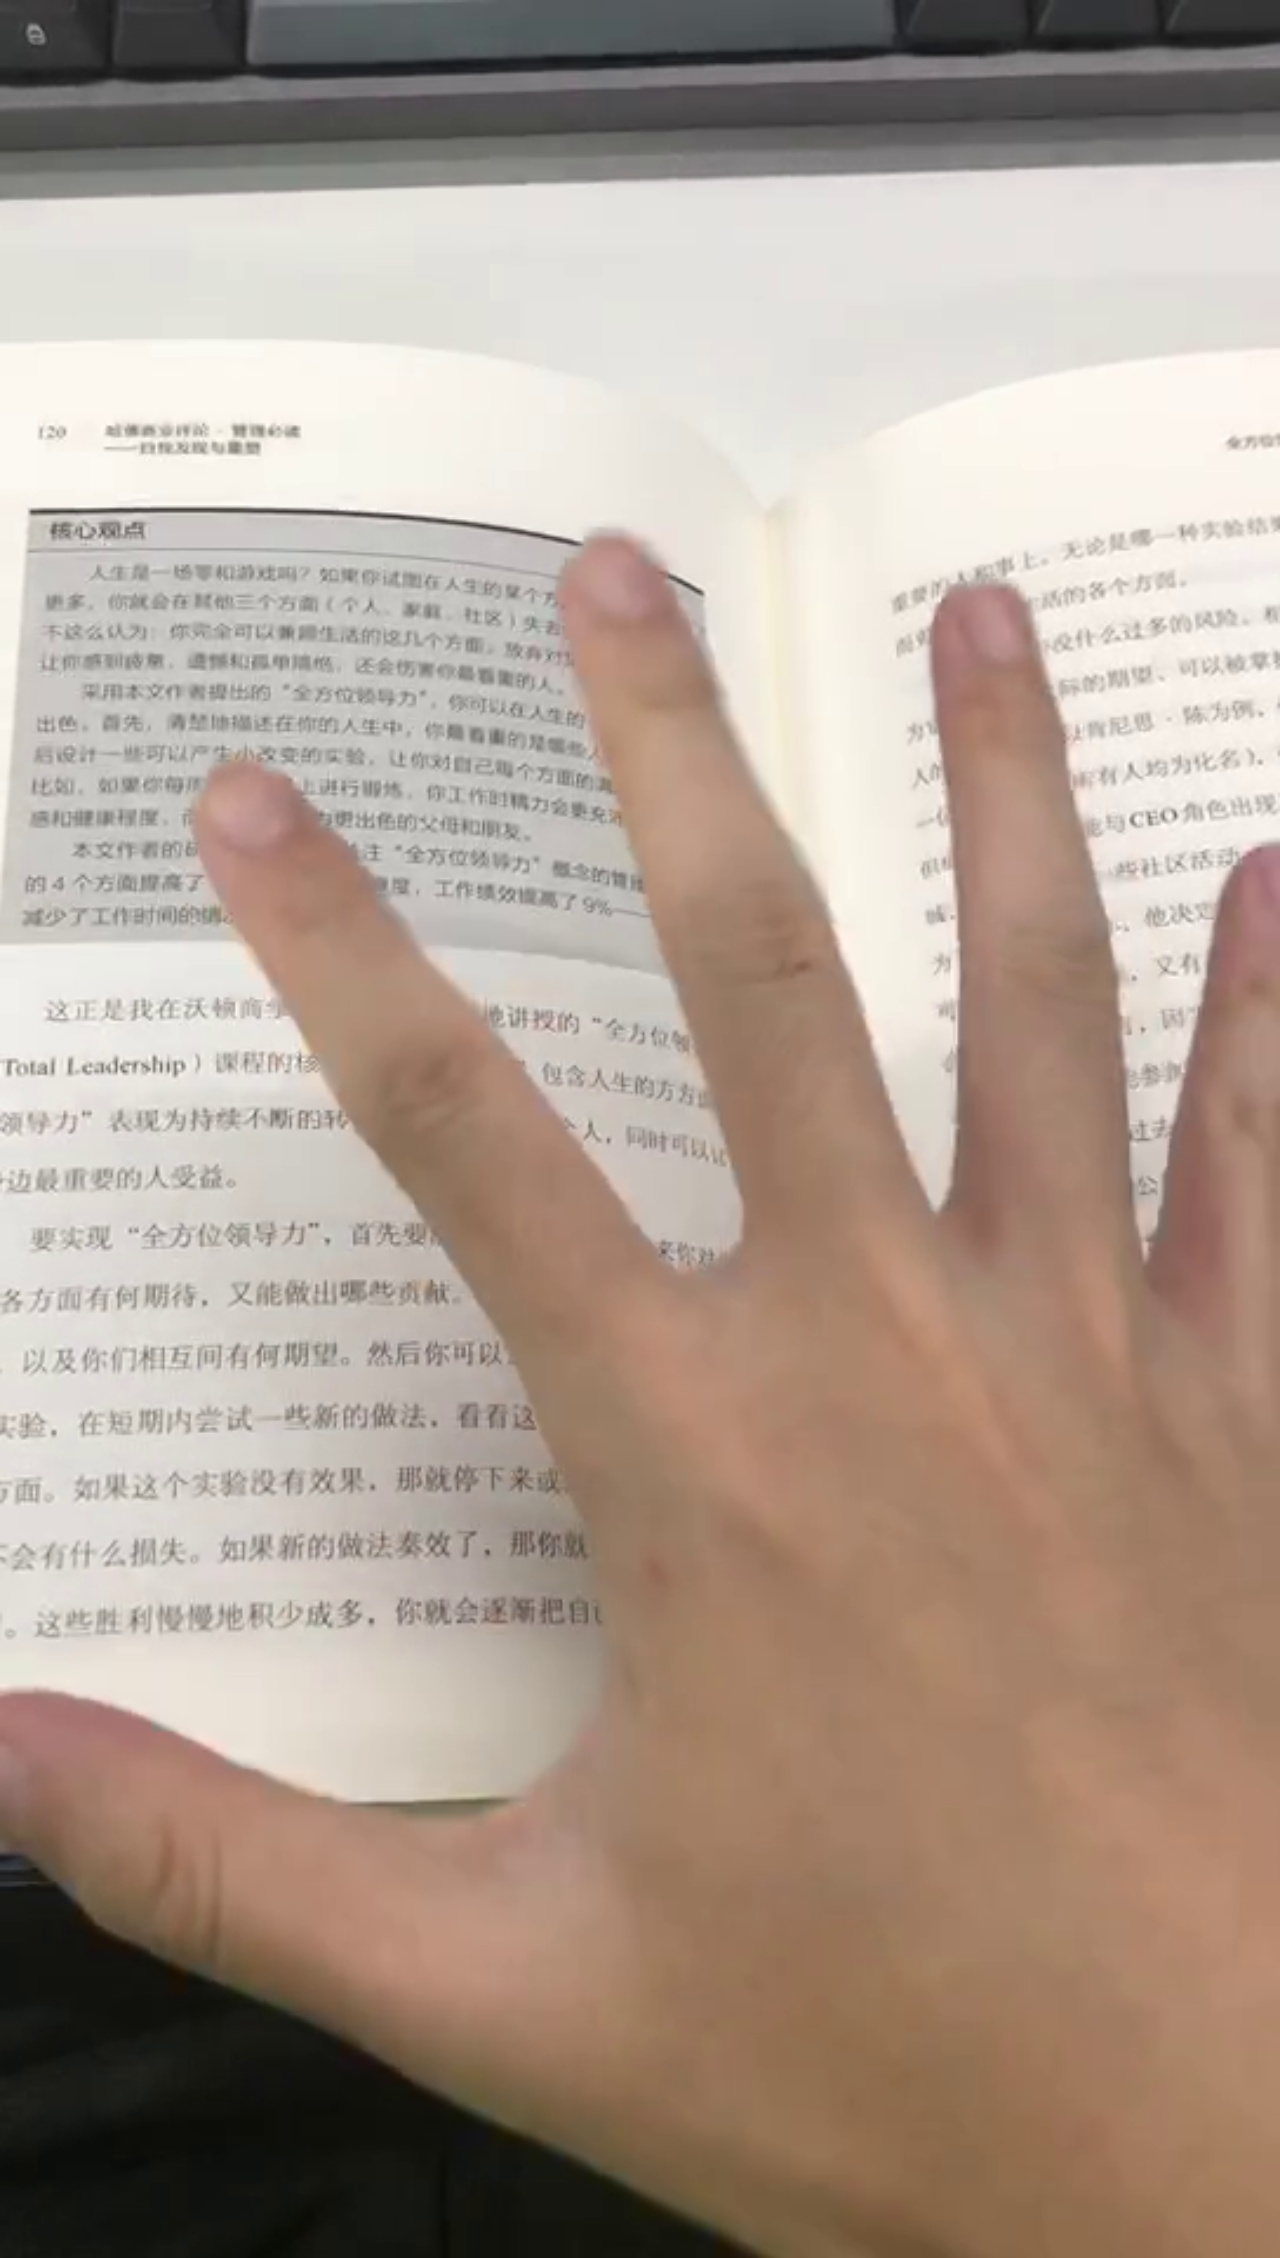finger2: (202, 755, 310, 853)
finger4: (574, 529, 673, 625)
finger6: (948, 582, 1040, 670)
finger8: (1255, 841, 1278, 901)
